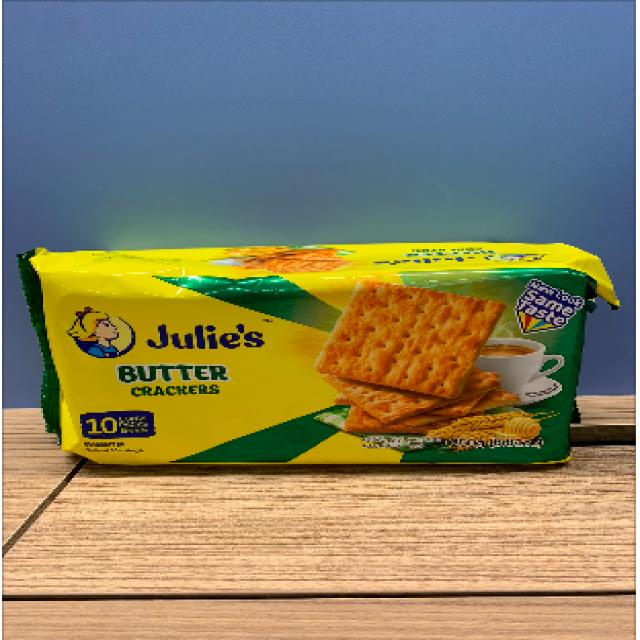object_name: (36, 256, 573, 473)
